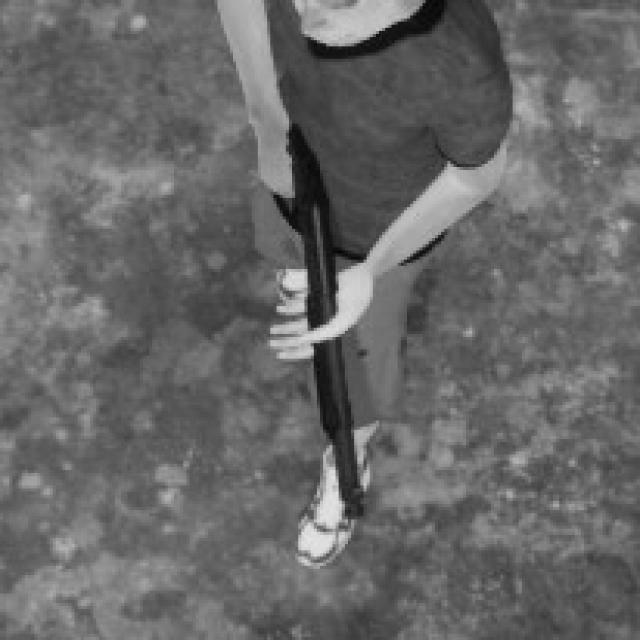weapon: (265, 125, 373, 520)
